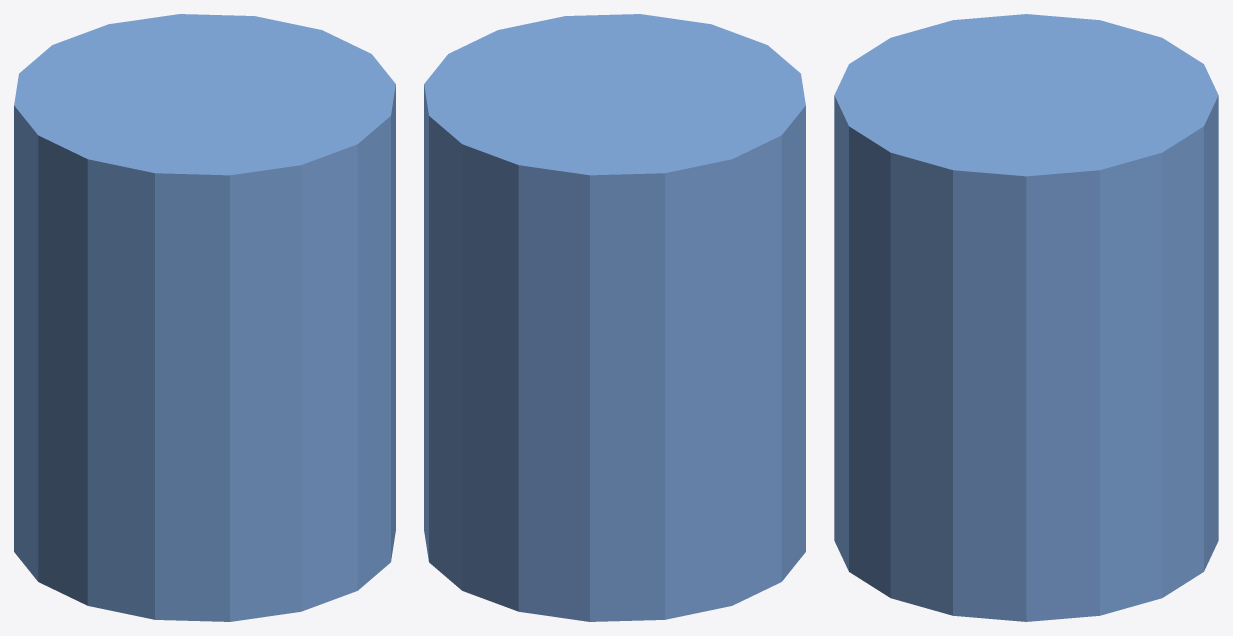
Rendered from platform.glb.
3 renders of one model, left to right at view 1: azimuth 30°, elevation 25°; view 2: azimuth 150°, elevation 25°; view 3: azimuth 270°, elevation 25°, orthographic.
Visible parts, largest first — view 1: Platform; view 2: Platform; view 3: Platform.
Part boxes in pixels (x1,y1,x2,y2): Platform: (14,14,395,621); Platform: (424,14,805,621); Platform: (834,14,1218,621).
Bounding box in the file's own units: 1.34 × 1.71 × 1.34.
